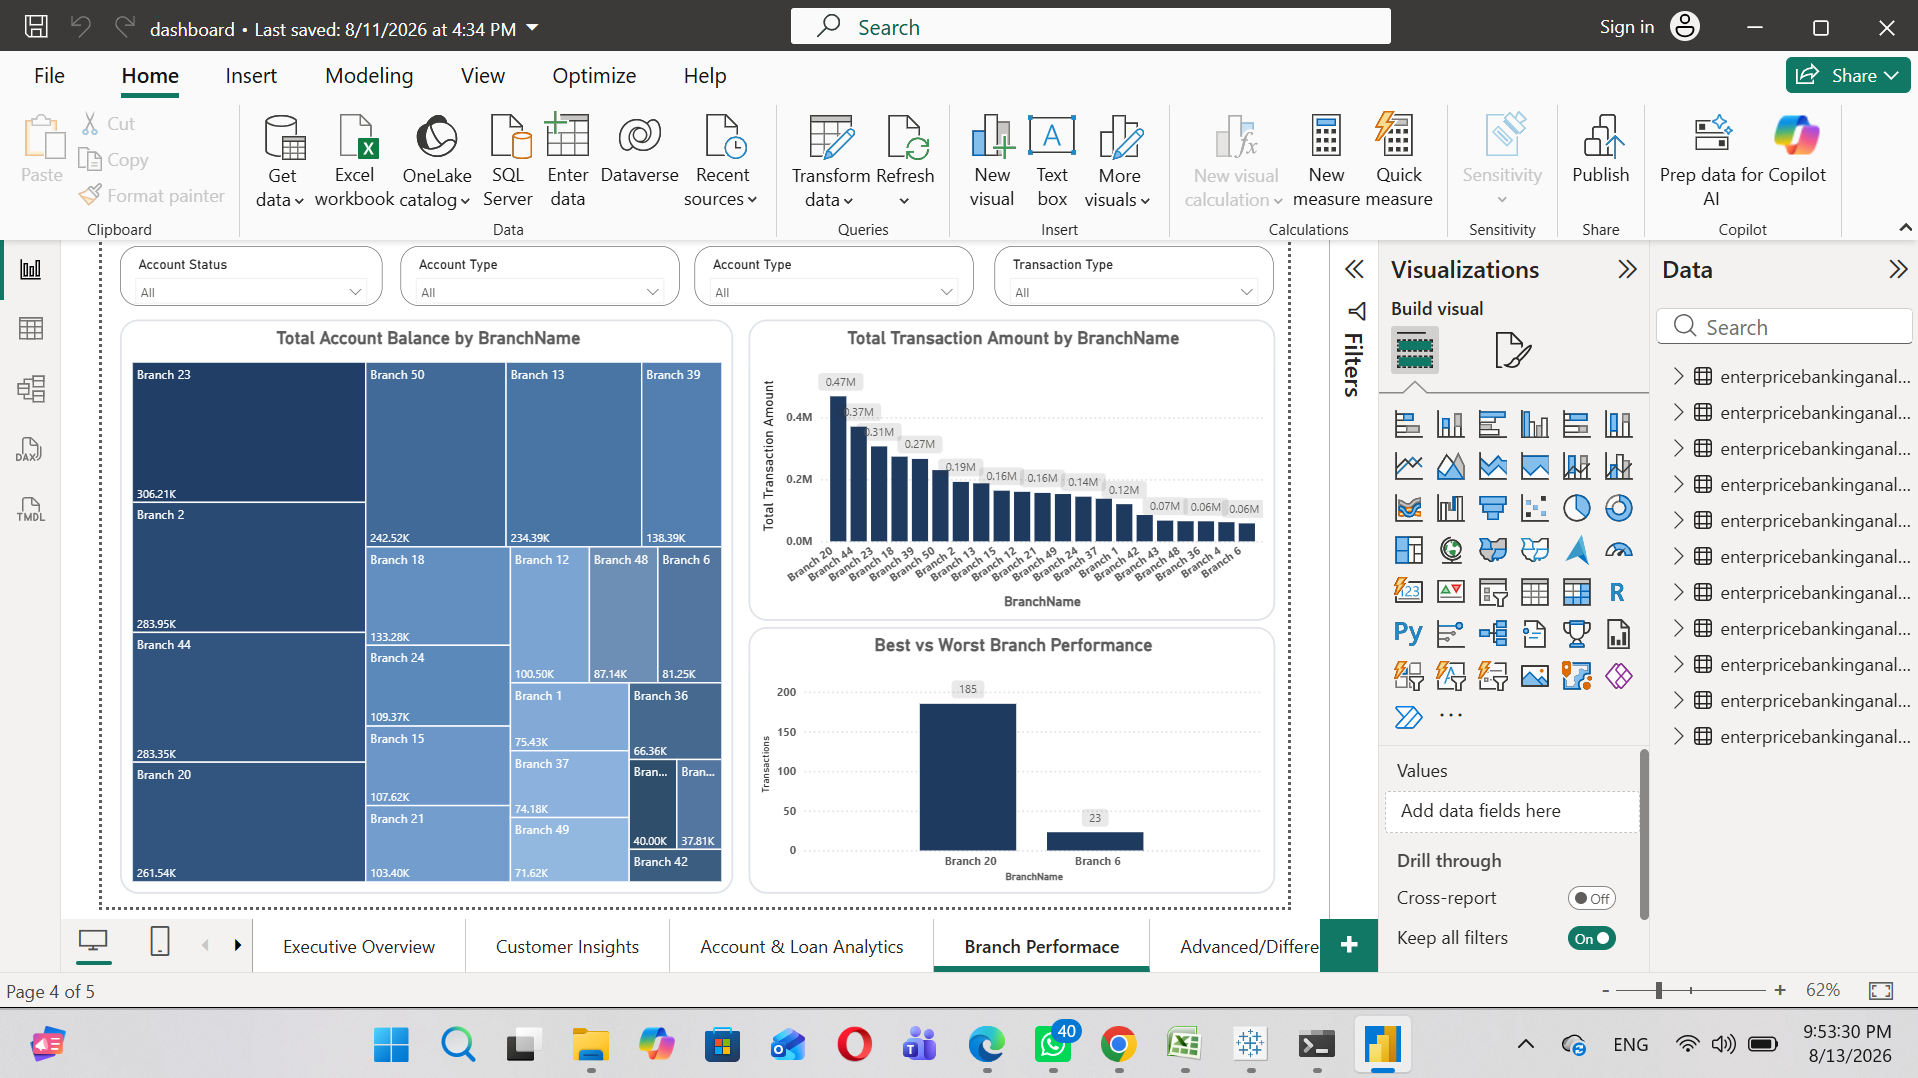

This screenshot's page, from the dashboard's own definition file:
{"tool":"powerbi","page":{"name":"Branch Performace","canvas":[1280,720],"ordinal":3},"visuals":[{"type":"columnChart","fields":{"Category":["enterpricebankinganalyticsdb branches.BranchName"],"Y":["enterpricebankinganalyticsdb transactions.Total Transaction Amount"]},"box":[697.9,85.8,568.3,325.5],"z":0},{"type":"columnChart","title":"Best vs Worst Branch Performance","fields":{"Category":["enterpricebankinganalyticsdb branches.BranchName"],"Y":["enterpricebankinganalyticsdb transactions.Transactions"]},"box":[697.9,417.8,568.3,288.2],"z":1000},{"type":"treemap","fields":{"Group":["enterpricebankinganalyticsdb branches.BranchName"],"Values":["enterpricebankinganalyticsdb accounts.Total Account Balance"]},"box":[19.4,85.8,662.3,620.2],"z":2000},{"type":"slicer","fields":{"Values":["enterpricebankinganalyticsdb account_statuses.StatusName"]},"box":[19.4,6.5,283.4,64.8],"z":2001},{"type":"slicer","fields":{"Values":["enterpricebankinganalyticsdb account_types.TypeName"]},"box":[322.2,6.5,301.6,64.8],"z":2002},{"type":"slicer","fields":{"Values":["enterpricebankinganalyticsdb account_types.TypeName"]},"box":[639.6,6.5,301.6,64.8],"z":2003},{"type":"slicer","fields":{"Values":["enterpricebankinganalyticsdb transaction_types.TypeName"]},"box":[963.4,6.5,301.6,64.8],"z":2004}]}

Visuals, with their boxes on the page's 1280x720 design canvas (x1, y1, x2, y2). These are canvas units, not pixel positions in the 1918x1078 screenshot, which may show the page scaled, cropped or inside an application window:
columnChart - enterpricebankinganalyticsdb branches.BranchName x enterpricebankinganalyticsdb transactions.Total Transaction Amount: 698 86 1266 411
"Best vs Worst Branch Performance" columnChart: 698 418 1266 706
treemap - enterpricebankinganalyticsdb branches.BranchName x enterpricebankinganalyticsdb accounts.Total Account Balance: 19 86 682 706
slicer - enterpricebankinganalyticsdb account_statuses.StatusName: 19 6 303 71
slicer - enterpricebankinganalyticsdb account_types.TypeName: 322 6 624 71
slicer - enterpricebankinganalyticsdb account_types.TypeName: 640 6 941 71
slicer - enterpricebankinganalyticsdb transaction_types.TypeName: 963 6 1265 71
